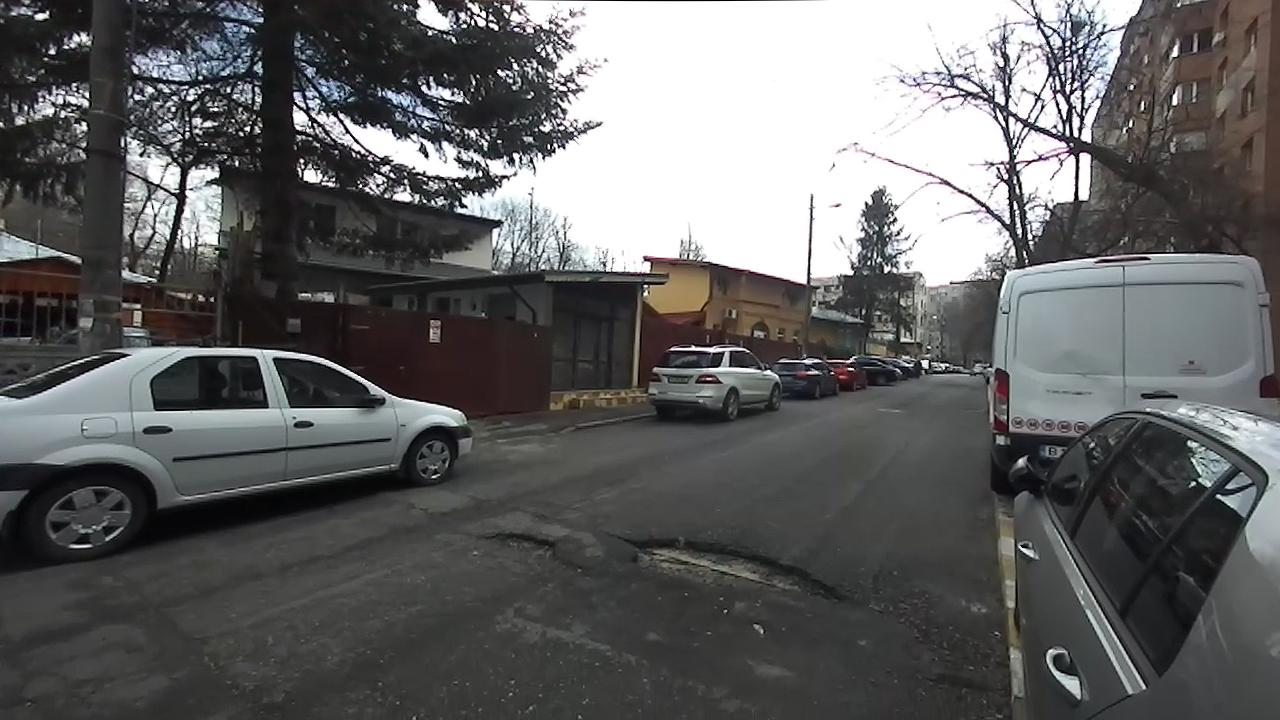pothole: (612, 532, 851, 608), (480, 527, 576, 565)
